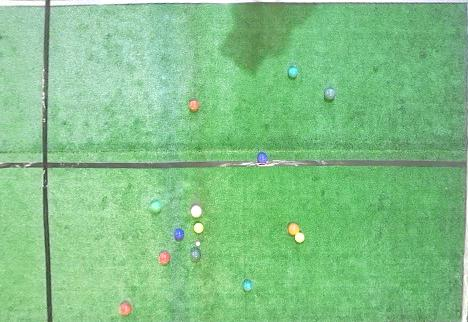blue: (174, 229, 184, 240), (257, 153, 268, 163)
green: (150, 201, 162, 214), (325, 88, 336, 100), (190, 249, 201, 260), (243, 280, 253, 292), (289, 67, 298, 77)
red: (158, 252, 171, 265), (120, 302, 132, 316), (288, 223, 300, 235), (191, 205, 202, 218), (189, 100, 200, 111)
vline: (1, 1, 54, 321), (458, 1, 467, 321)
white: (196, 241, 200, 246)
yellow: (193, 223, 204, 233), (295, 232, 305, 243)
